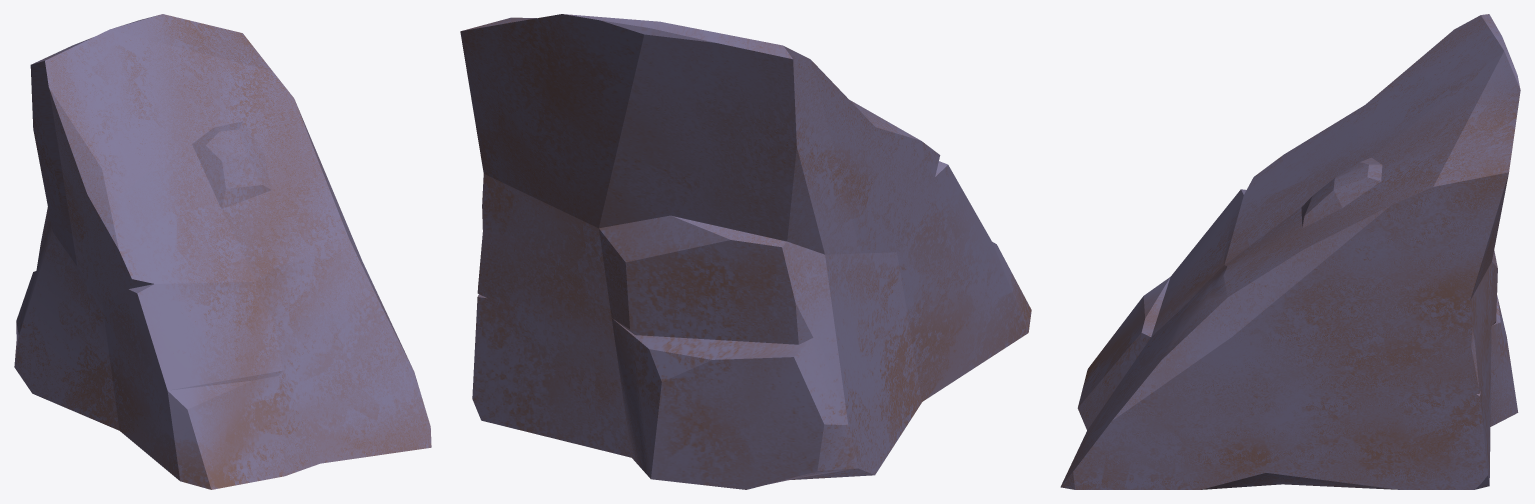
The model's file is rock_1.fbx.
The picture shows the model from 3 angles, left to right: view 1: azimuth 30°, elevation 25°; view 2: azimuth 150°, elevation 25°; view 3: azimuth 270°, elevation 25°; orthographic projection. The views are drawn at different scales.
Parts seen in each view (by area): view 1: rock 1; view 2: rock 1; view 3: rock 1.
Boxes of the visible parts, box(x1,y1,x2,y2) form: rock 1: box(14, 14, 431, 489); rock 1: box(460, 14, 1031, 489); rock 1: box(1060, 14, 1520, 489).
Bounding box in the file's own units: 228 × 268 × 309.
